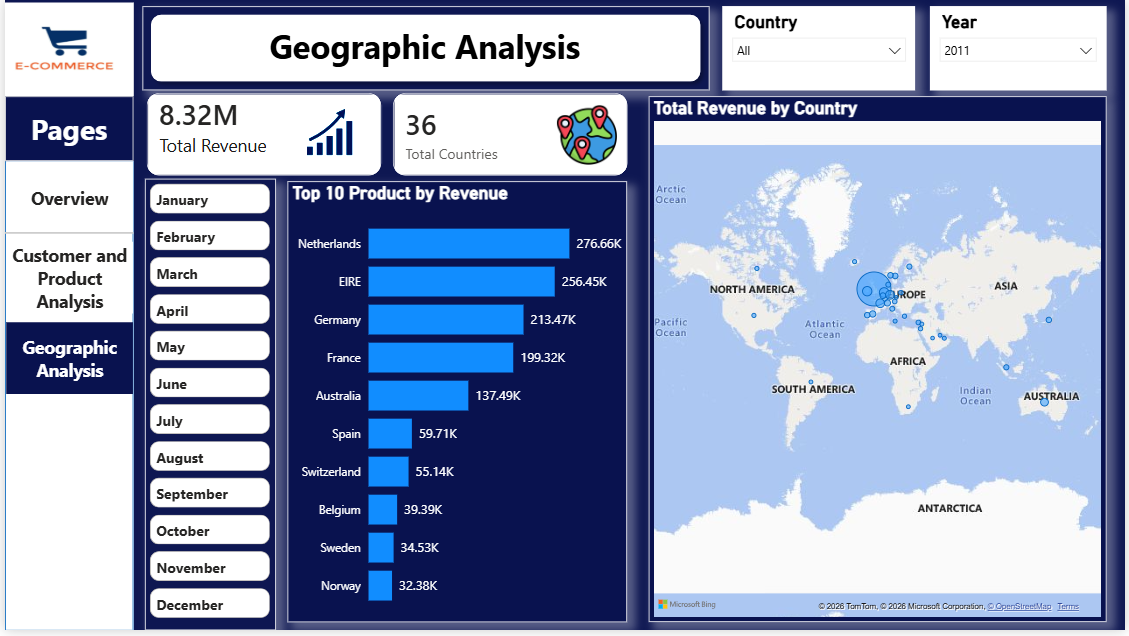

The dashboard page shown, as its layout file describes it:
{"tool":"powerbi","page":{"name":"Geographic Analysis","canvas":[1280,720],"ordinal":2},"visuals":[{"type":"image","box":[0,2.7,146.8,107],"z":0},{"type":"shape","box":[157.8,6.9,647.7,96.1],"z":1000},{"type":"advancedSlicerVisual","fields":{"Values":["Custome Calender 1.Date.Variation.Date Hierarchy.Month"]},"box":[160.5,204.5,149.6,516],"z":2000},{"type":"textbox","box":[297.8,23.3,437.7,63.1],"z":3000},{"type":"slicer","fields":{"Values":["Cleaned E-Commerse Data.Country"]},"box":[820,7.1,220,95.7],"z":4000},{"type":"slicer","fields":{"Values":["Custome Calender 1.Date.Variation.Date Hierarchy.Year"]},"box":[1057.1,7.1,201.4,95.7],"z":5000},{"type":"shape","box":[0,183.9,146.8,536.5],"z":6000},{"type":"shape","box":[0,109.8,146.8,74.1],"z":7000},{"type":"pageNavigator","box":[1.4,183.9,145.5,269],"z":8000},{"type":"clusteredBarChart","title":"Top 10 Product by Revenue","fields":{"Y":["Cleaned E-Commerse Data.Total Revenue"],"Category":["Cleaned E-Commerse Data.Country"]},"box":[322.5,207.2,388.3,503.6],"z":9000},{"type":"cardVisual","fields":{"Data":["Cleaned E-Commerse Data.Total Revenue"]},"box":[157.8,101.5,278.6,104.3],"z":10000},{"type":"cardVisual","fields":{"Data":["Cleaned E-Commerse Data.Total Countries"]},"box":[439.1,101.5,278.6,104.3],"z":11000},{"type":"map","fields":{"Category":["Cleaned E-Commerse Data.Country"],"Size":["Cleaned E-Commerse Data.Total Revenue"]},"box":[735.5,109.8,522.8,601],"z":12000},{"type":"shape","box":[0,259.3,146.8,12.3],"z":13000}]}

Visuals, with their boxes in screenshot pixels (x1, y1, x2, y2), scaled from the page's 1280x720 canvas onto the 1129x636 screenshot:
image: 0,2,129,97
shape: 139,6,710,91
advancedSlicerVisual - Custome Calender 1.Date.Variation.Date Hierarchy.Month: 142,181,274,635
textbox: 263,21,649,76
slicer - Cleaned E-Commerse Data.Country: 723,6,917,91
slicer - Custome Calender 1.Date.Variation.Date Hierarchy.Year: 932,6,1110,91
shape: 0,162,129,635
shape: 0,97,129,162
pageNavigator: 1,162,130,400
"Top 10 Product by Revenue" clusteredBarChart: 284,183,627,628
cardVisual - Cleaned E-Commerse Data.Total Revenue: 139,90,385,182
cardVisual - Cleaned E-Commerse Data.Total Countries: 387,90,633,182
map - Cleaned E-Commerse Data.Country x Cleaned E-Commerse Data.Total Revenue: 649,97,1110,628
shape: 0,229,129,240
